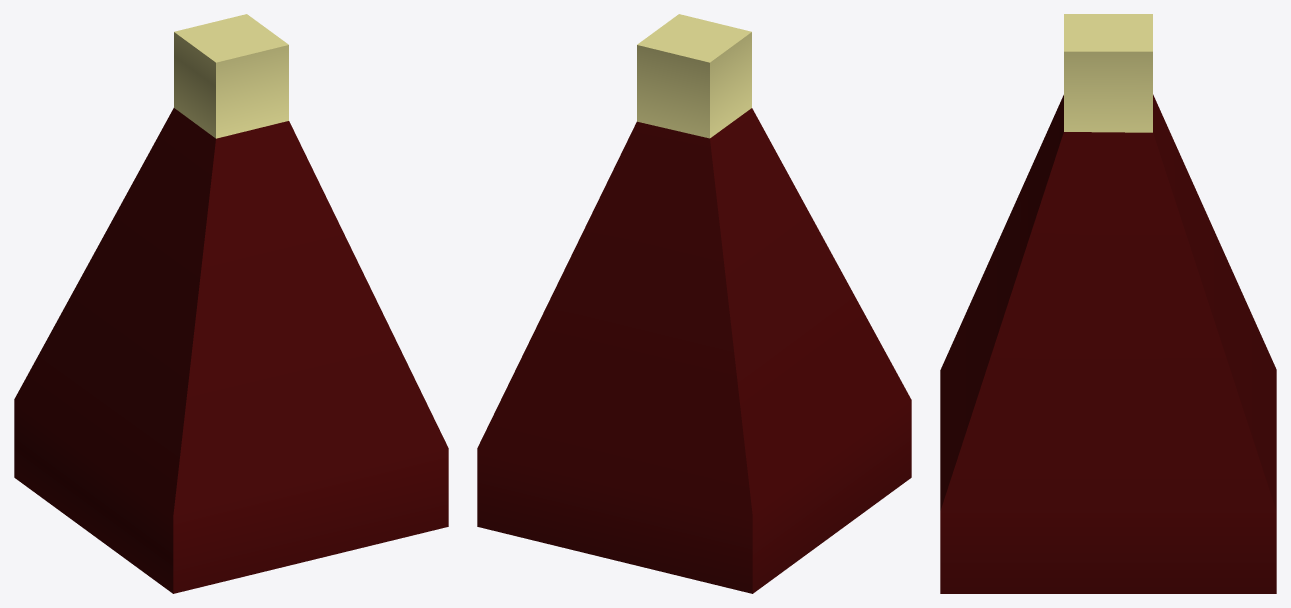
The model's file is red bottle.fbx.
The picture shows the model from 3 angles, left to right: view 1: azimuth 30°, elevation 25°; view 2: azimuth 150°, elevation 25°; view 3: azimuth 270°, elevation 25°; orthographic projection. The views are drawn at different scales.
Parts seen in each view (by area): view 1: Red_bottle; view 2: Red_bottle; view 3: Red_bottle.
Boxes of the visible parts, bbox=[...] form: Red_bottle: bbox=[14, 14, 448, 593]; Red_bottle: bbox=[477, 14, 911, 593]; Red_bottle: bbox=[940, 14, 1276, 593].
Bounding box in the file's own units: 1.09 × 1.76 × 1.09.
